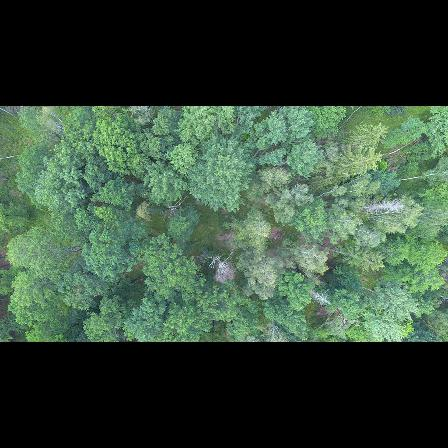Dead: (208, 248, 238, 282), (361, 196, 409, 215), (160, 192, 189, 218), (46, 108, 69, 139), (260, 319, 287, 339), (310, 286, 335, 306)
